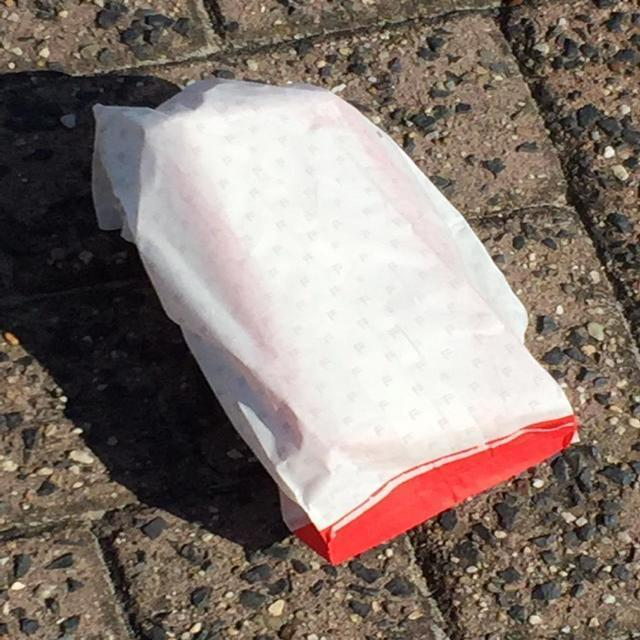Paper: (89, 74, 586, 572)
